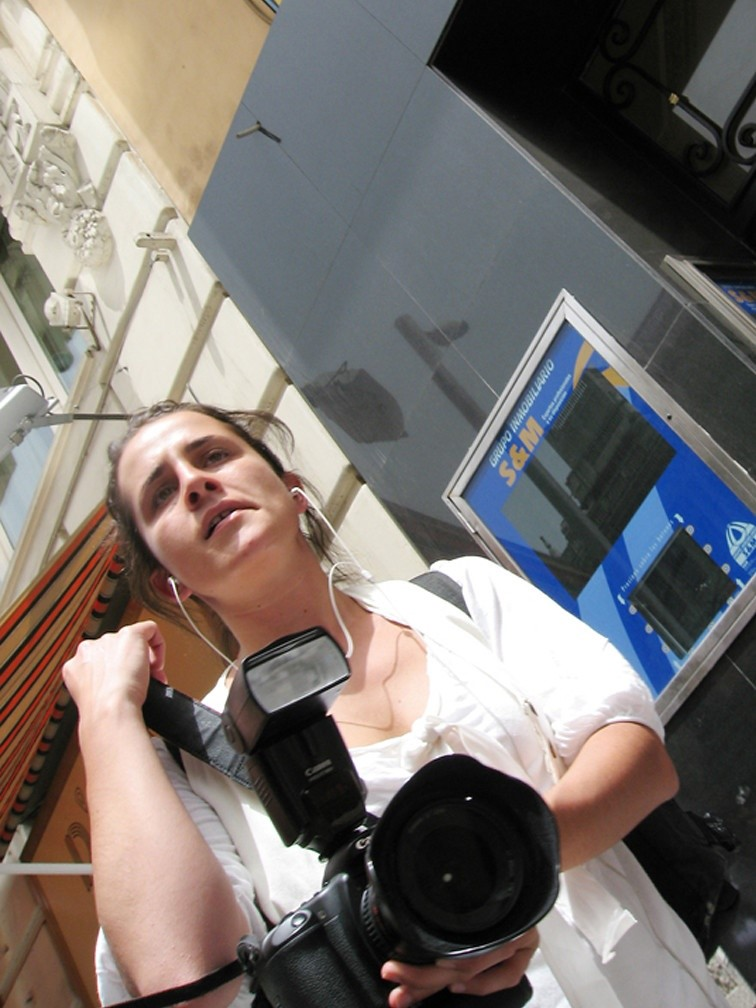face_no_mask: (110, 400, 298, 583)
